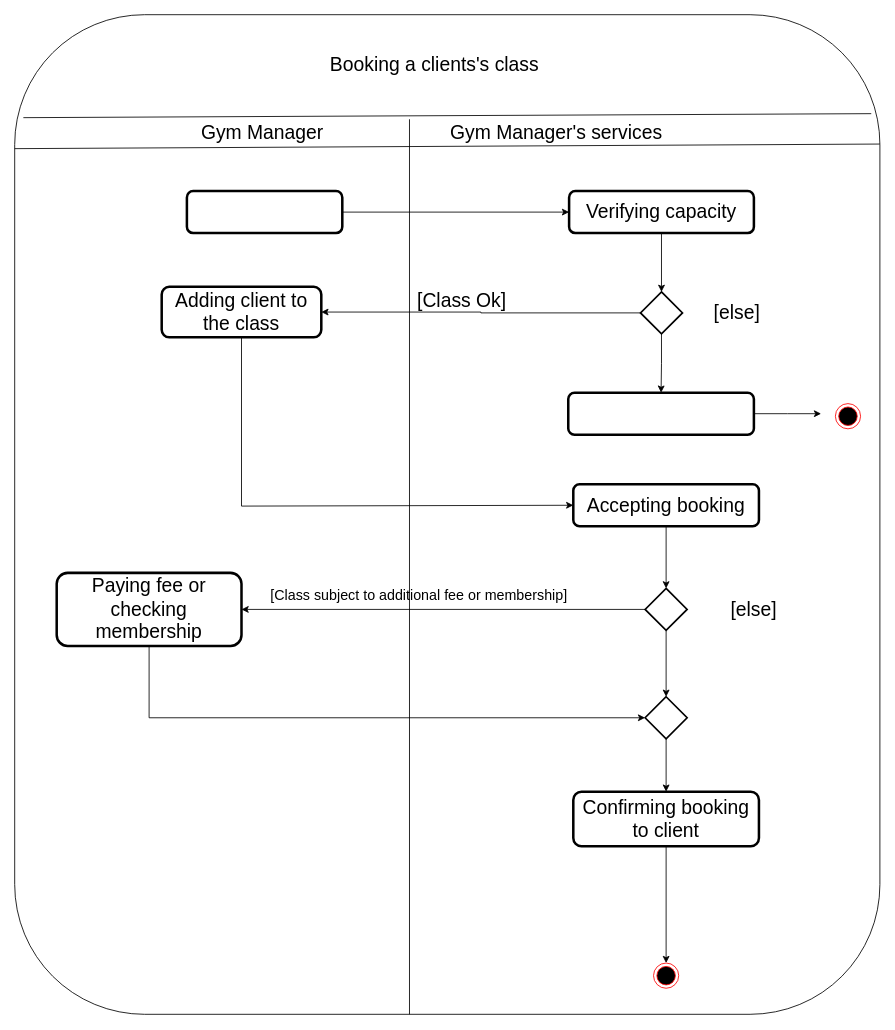
The diagram is 895 pixels wide and 1030 high, and some of its shapes have lost their labels. The box of each missing label's shape, as (x1, y1, x2, y2) in pixels:
Checking class: (185, 189, 343, 234)
Class full booked: (567, 391, 755, 436)
